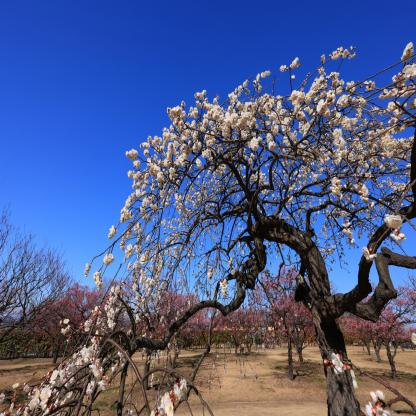Ume: (0, 41, 416, 416), (0, 203, 225, 352), (224, 267, 416, 345)
